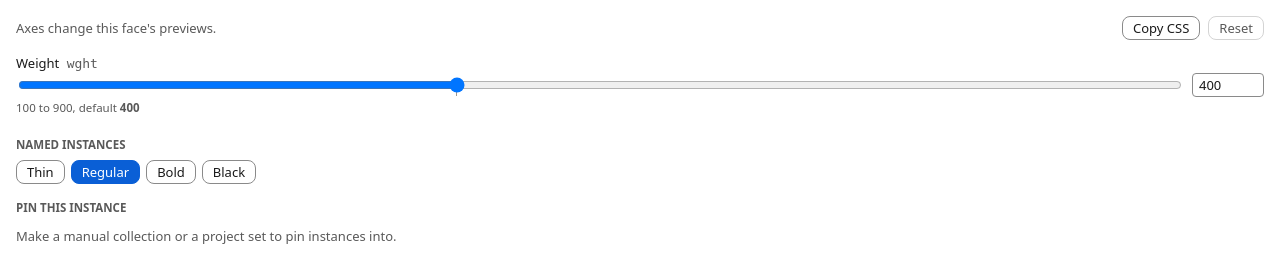
Scenario: inspector axes tab › lists named instances as presets; choosing one sets the sliders; Reset goes back
Click the button "Bold" at point(171, 172), box [146,160,196,184]
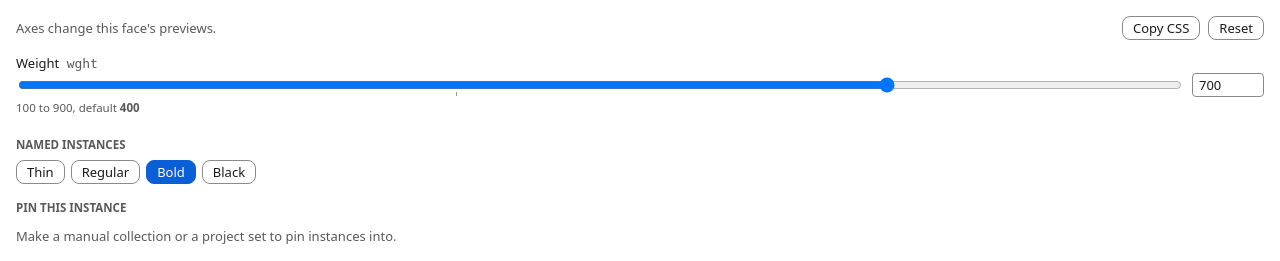
Now the slider labelled "Weight wght" holds "700", box [18,74,1182,96]
Click the button with class "reset" at point(1236, 28), box [1208,16,1264,40]
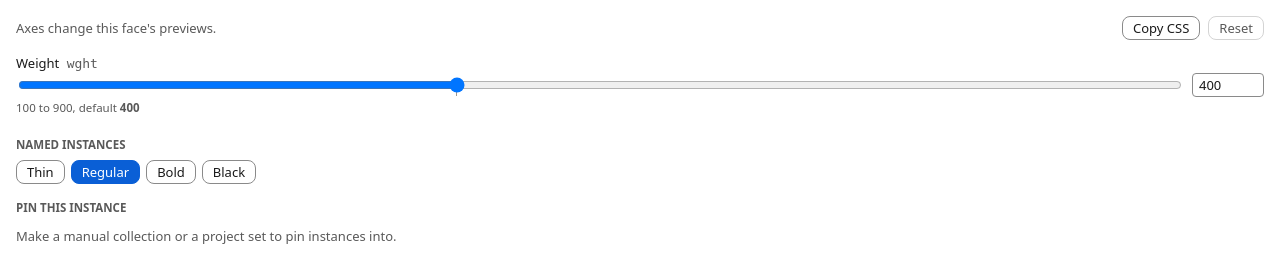
Now the slider labelled "Weight wght" holds "400", box [18,74,1182,96]
Now the button with class "reset" is disabled, box [1208,16,1264,40]
